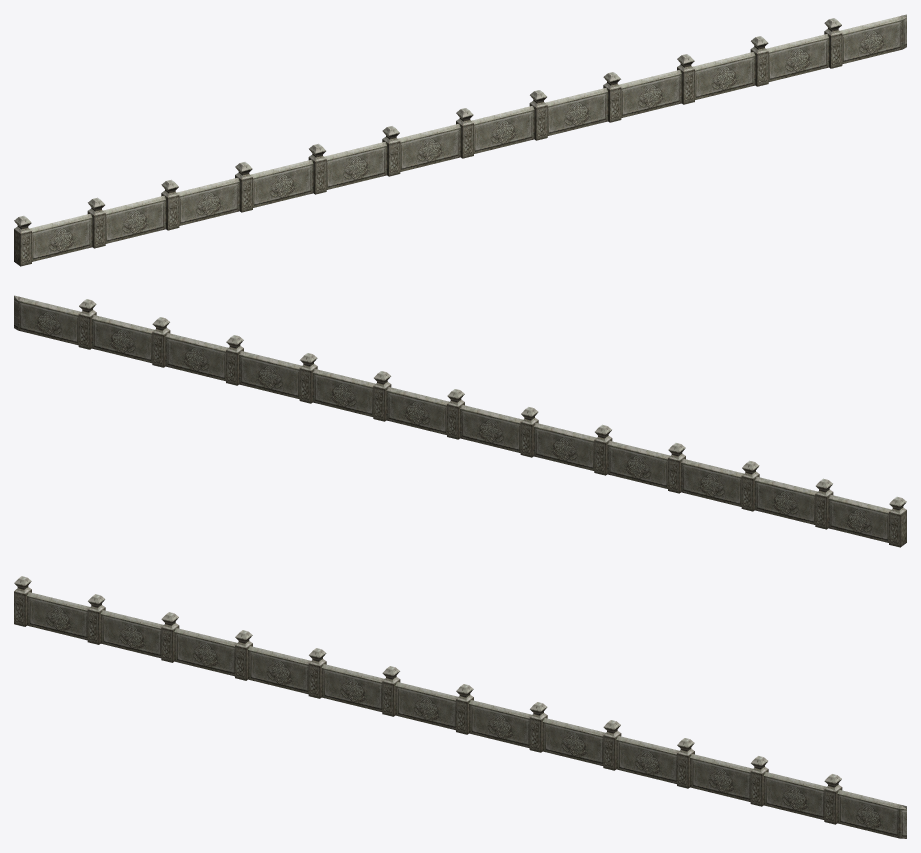
Rendered from secret_fence_03.glb.
3 views of the same model, one above another, from view 1: azimuth 30°, elevation 25°; view 2: azimuth 150°, elevation 25°; view 3: azimuth 330°, elevation 25° (orthographic).
Visible parts, largest first — view 1: secret_fence_03; view 2: secret_fence_03; view 3: secret_fence_03.
Part boxes in pixels (x1=…): secret_fence_03: x1=14, y1=14, x2=906, y2=266; secret_fence_03: x1=14, y1=295, x2=906, y2=547; secret_fence_03: x1=14, y1=576, x2=906, y2=838.
Size of the model in its own units: 24.15 by 1.18 by 0.3111.
Materials: 1 (1 with a texture image).
